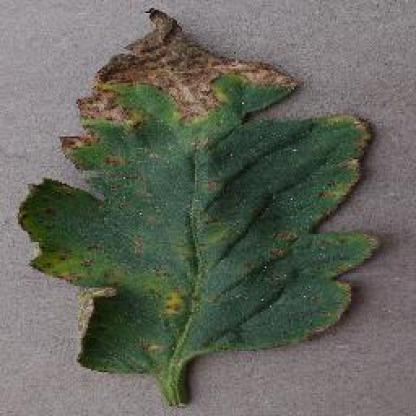bad leaf: (31, 12, 379, 399)
